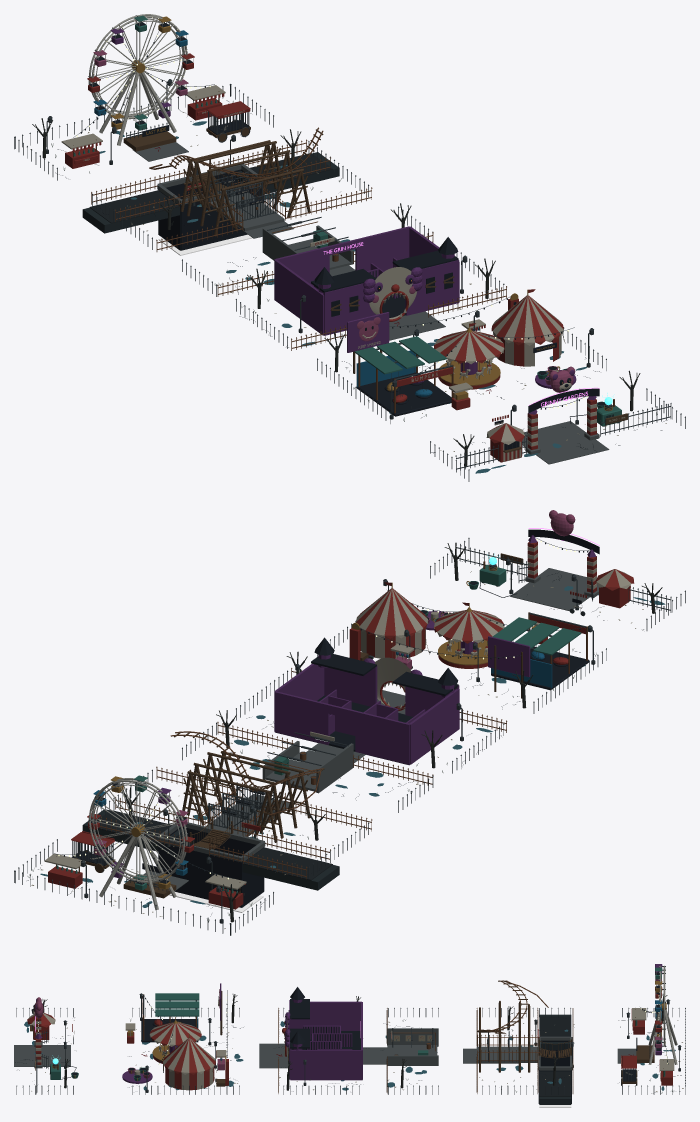
File: park.glb
The picture shows the model from 3 angles, top to bottom: view 1: azimuth 30°, elevation 25°; view 2: azimuth 150°, elevation 25°; view 3: azimuth 270°, elevation 25°; orthographic projection. The views are drawn at different scales.
Parts seen in each view (by area): view 1: Static_funhouse, Static_coaster, Static_midway, Static_ferris, Static_gate, Static_staff, CarouselTop; view 2: Static_coaster, Static_funhouse, Static_midway, Static_ferris, Static_gate, Static_staff, CarouselTop; view 3: Static_funhouse, Static_coaster, Static_midway, Static_ferris, Static_staff, Static_gate, CarouselTop, Bridge.
Part boxes in pixels (x1,y1,x2,y2): Static_funhouse: (235,226,506,350); Static_coaster: (82,127,372,255); Static_midway: (317,289,606,423); Static_ferris: (14,14,273,180); Static_gate: (430,366,685,481); Static_staff: (182,203,433,296); CarouselTop: (434,323,504,380); Static_coaster: (82,731,372,912); Static_funhouse: (236,637,507,773); Static_midway: (317,579,606,713); Static_ferris: (14,775,273,935); Static_gate: (430,510,685,630); Static_staff: (182,710,433,812); CarouselTop: (434,603,504,659); Static_funhouse: (259,987,366,1094); Static_coaster: (463,980,574,1107); Static_midway: (122,983,243,1094); Static_ferris: (617,964,685,1094); Static_staff: (363,1008,438,1094); Static_gate: (14,997,78,1094); CarouselTop: (149,1017,201,1057); Bridge: (540,1041,570,1058).
Bounding box in the file's own units: 52.5 × 35.89 × 177.
